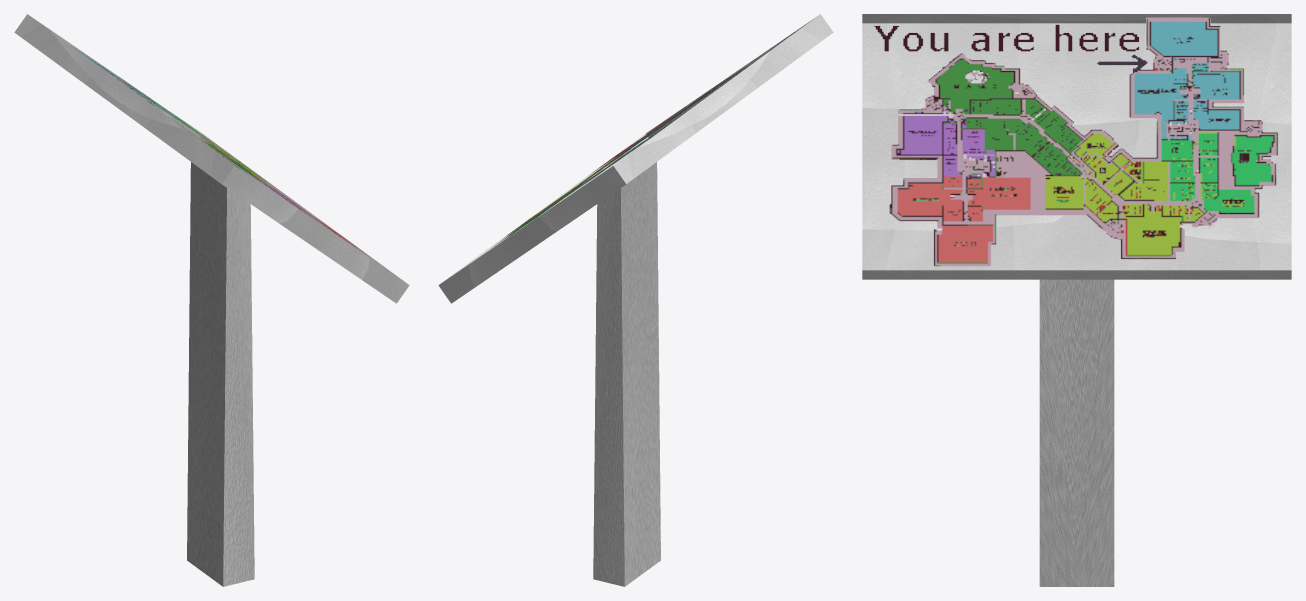
File: map.fbx
3 renders of one model, left to right at view 1: azimuth 30°, elevation 25°; view 2: azimuth 150°, elevation 25°; view 3: azimuth 270°, elevation 25°, orthographic. The views are drawn at different scales.
Visible parts, largest first — view 1: Cube; view 2: Cube; view 3: Cube.
Part boxes in pixels (x1,y1,x2,y2): Cube: (14,14,409,586); Cube: (438,14,833,586); Cube: (862,14,1291,586).
Size of the model in its own units: 224 by 571 by 427.
